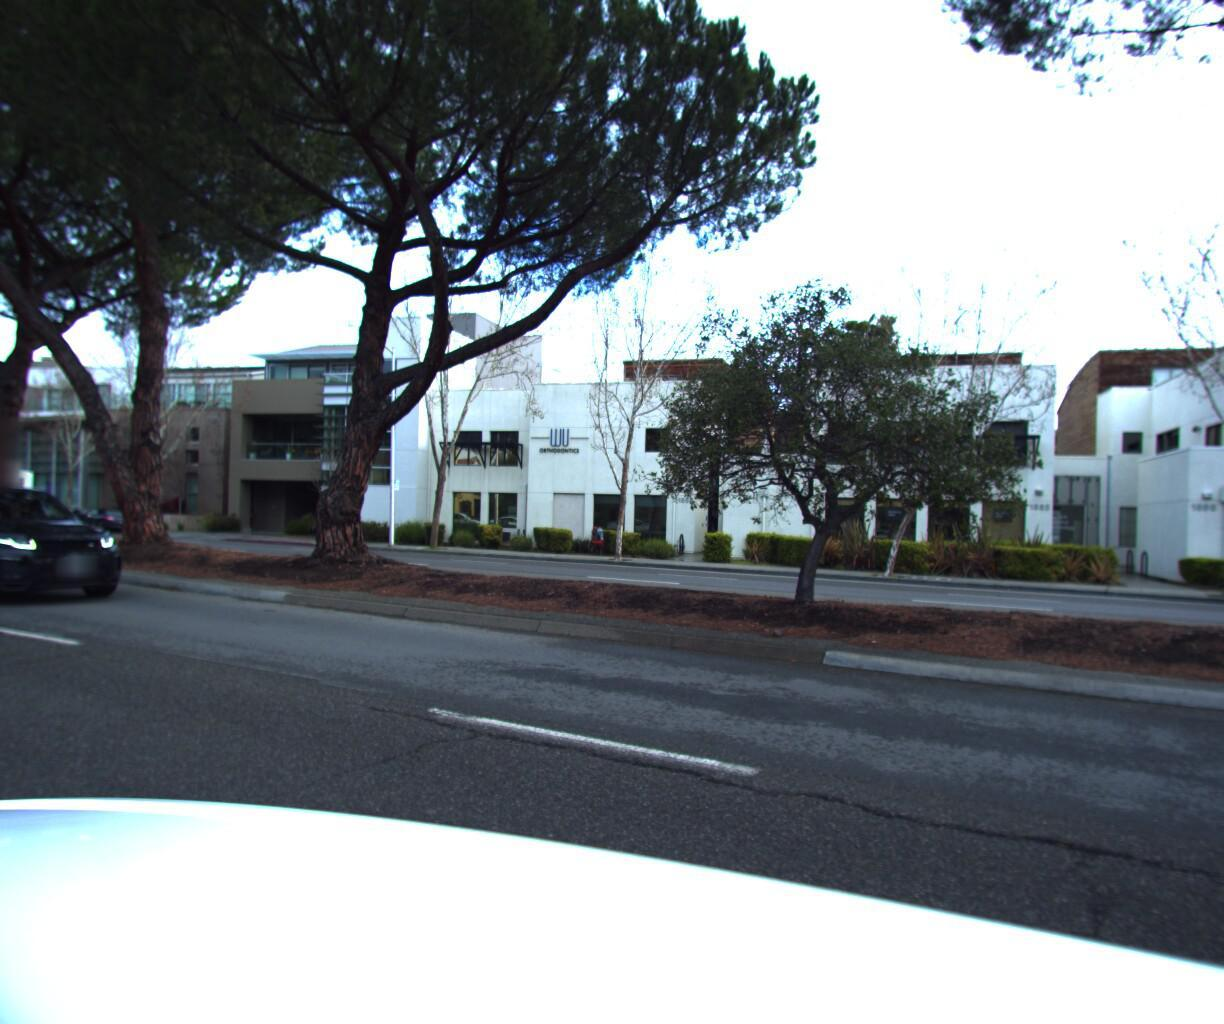bus: (0, 463, 40, 523)
car: (0, 487, 144, 617), (62, 507, 145, 537)
